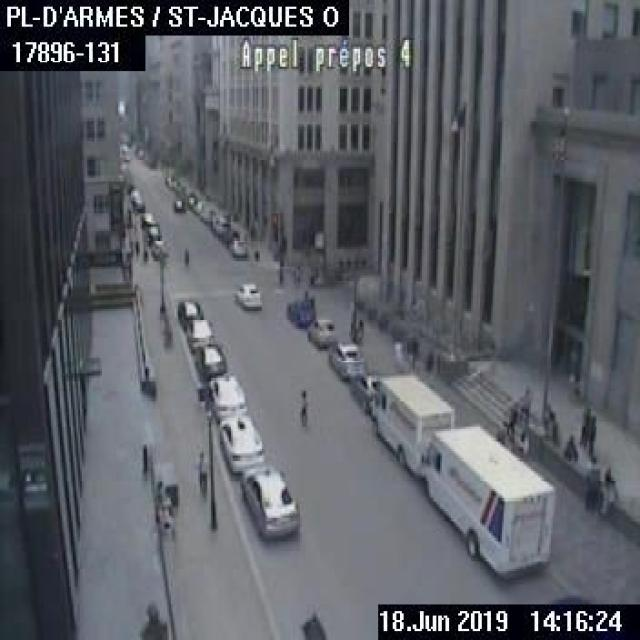pedestrian: (584, 456, 600, 514), (578, 407, 595, 460), (601, 464, 615, 516), (515, 385, 531, 423), (196, 449, 208, 495), (501, 399, 515, 434), (409, 333, 420, 369), (562, 433, 576, 461), (298, 389, 308, 424), (423, 349, 432, 371), (182, 246, 188, 265), (307, 294, 314, 308), (142, 246, 148, 262), (302, 288, 306, 299)
vehicle: (426, 424, 553, 576), (371, 373, 453, 476), (240, 464, 300, 536), (218, 412, 262, 472), (206, 370, 246, 418), (347, 370, 380, 413), (328, 341, 363, 376), (192, 341, 225, 378), (183, 317, 212, 350), (231, 280, 260, 309), (305, 318, 333, 346), (286, 298, 315, 325), (176, 298, 202, 324), (226, 237, 246, 256), (150, 238, 166, 258), (140, 210, 155, 228), (215, 217, 230, 235), (146, 225, 160, 242), (172, 197, 184, 211), (132, 237, 138, 257)
